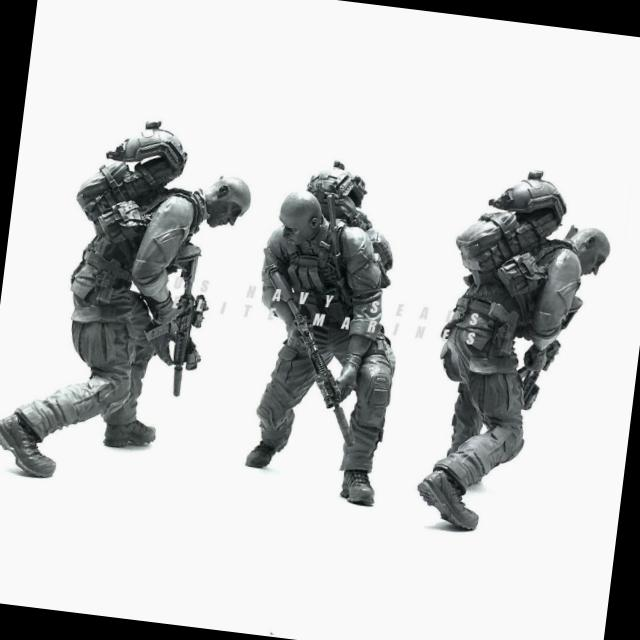long weapon: (232, 261, 392, 438), (138, 250, 228, 431)
